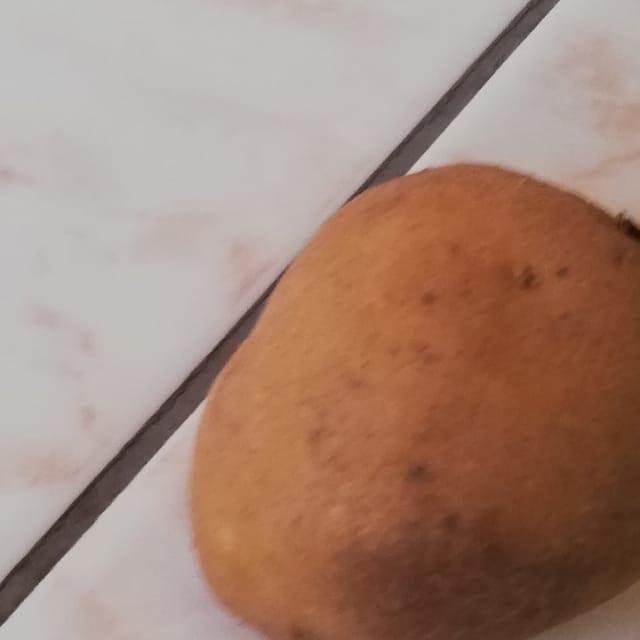potato: (175, 152, 640, 640)
